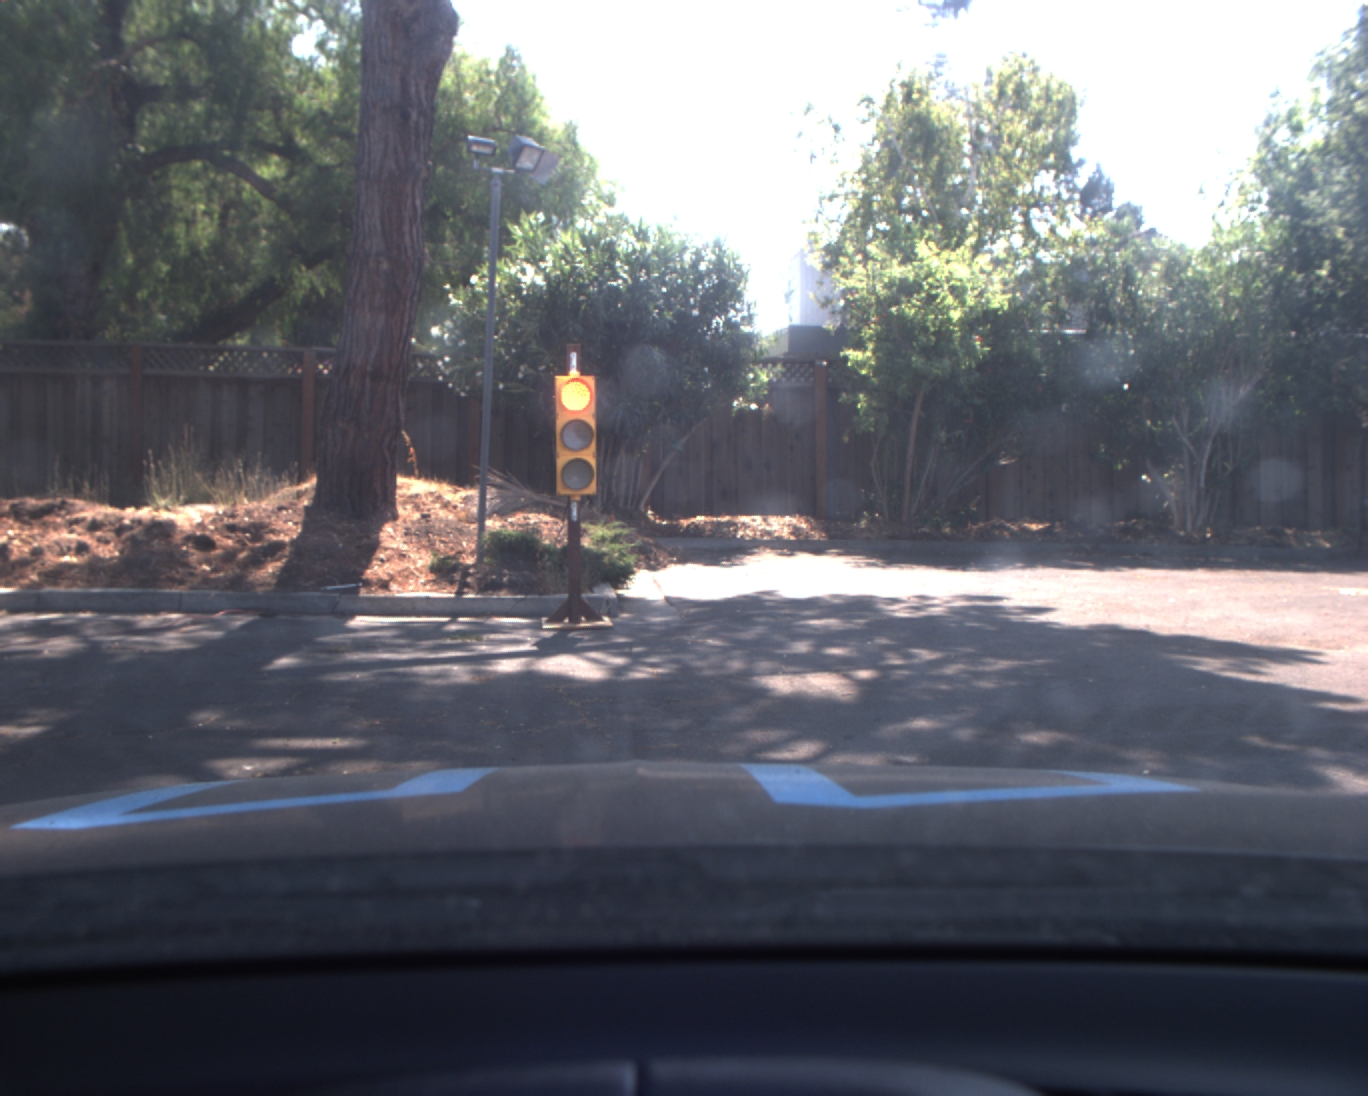red: (555, 375, 597, 498)
